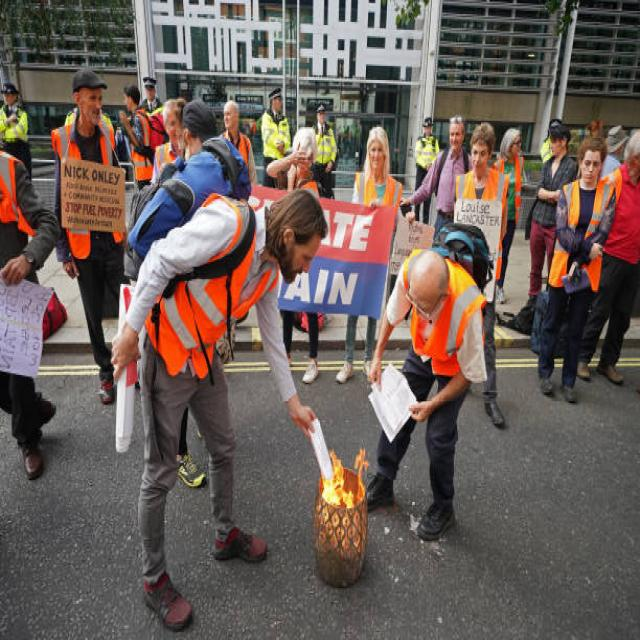fire: (320, 448, 369, 508)
